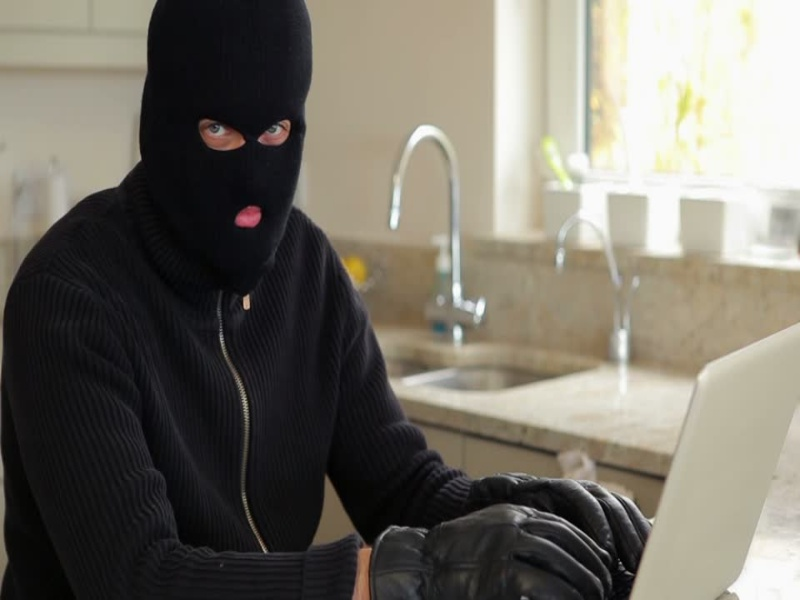balaclava: (138, 1, 317, 287)
hand: (363, 505, 613, 600)
person: (1, 1, 650, 600)
